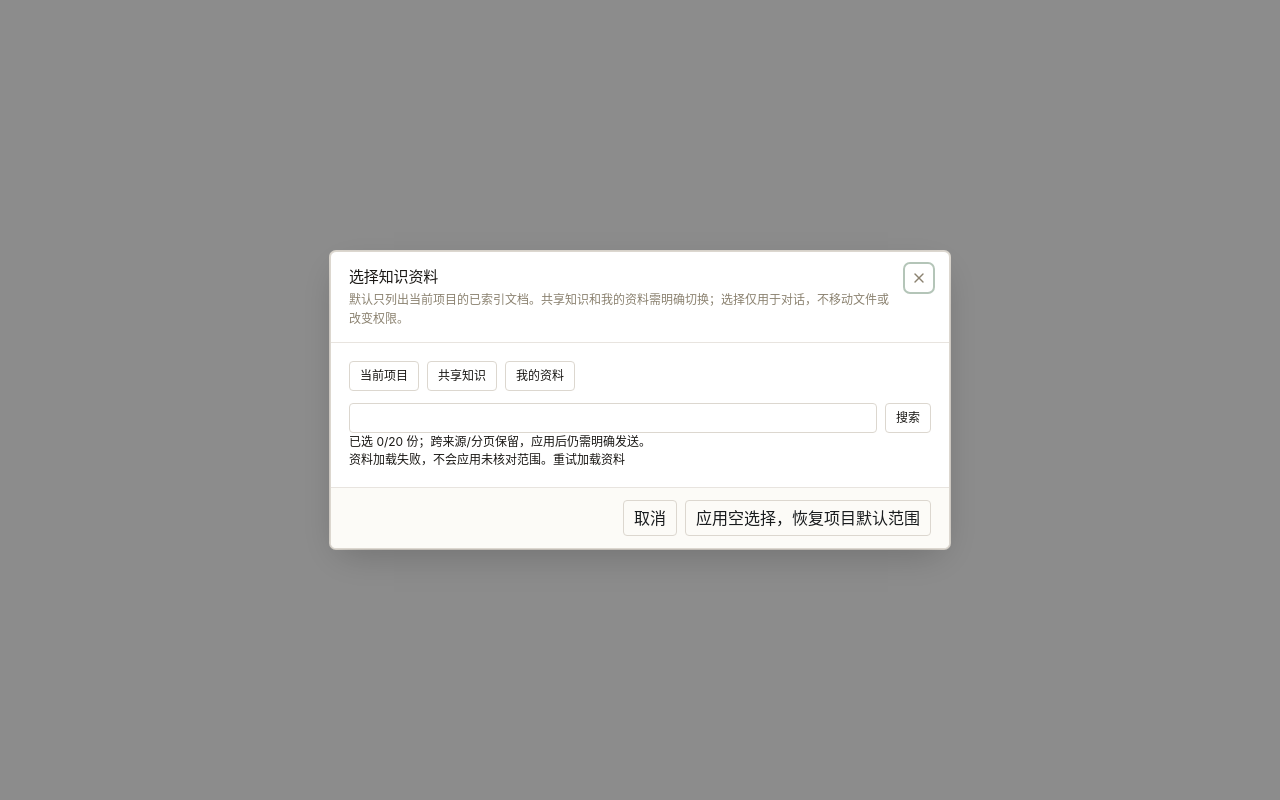
Test: project document picker › blocks apply on invalid page and retries without applying (offline)
Expected: the message "资料加载失败，不会应用未核对范围。 重试加载资料" is shown, 349,451 -> 625,469
Expected: the button "应用空选择，恢复项目默认范围" is disabled, 685,500 -> 931,536
Click the button "重试加载资料": (589, 460) 553,451 -> 625,469
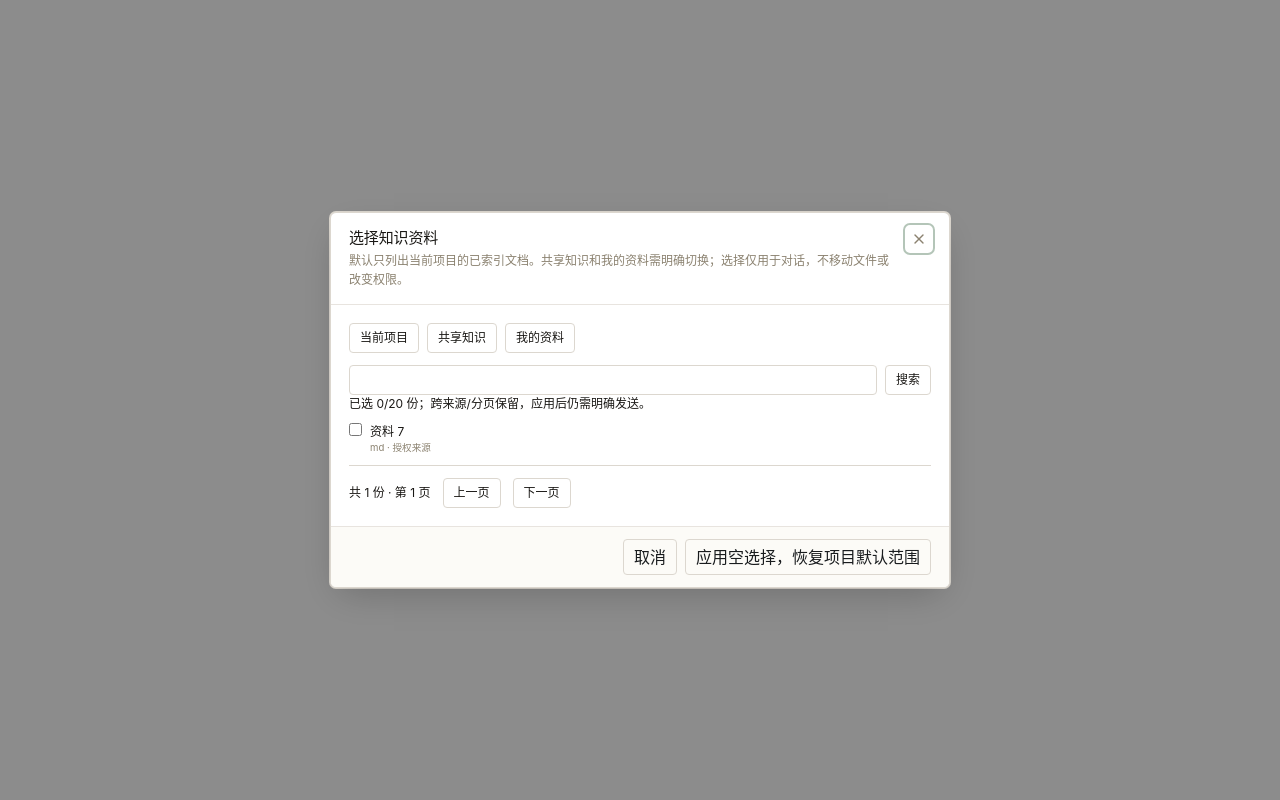
Result: the checkbox named "选择资料 资料 7" is shown at 349,423 -> 362,436
Result: the button "应用空选择，恢复项目默认范围" is enabled at 685,539 -> 931,575
